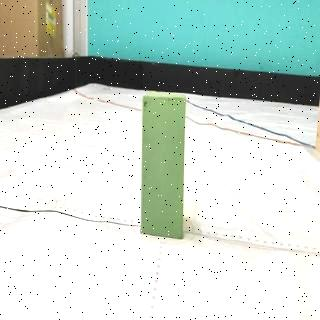greenbox: (140, 91, 186, 242)
